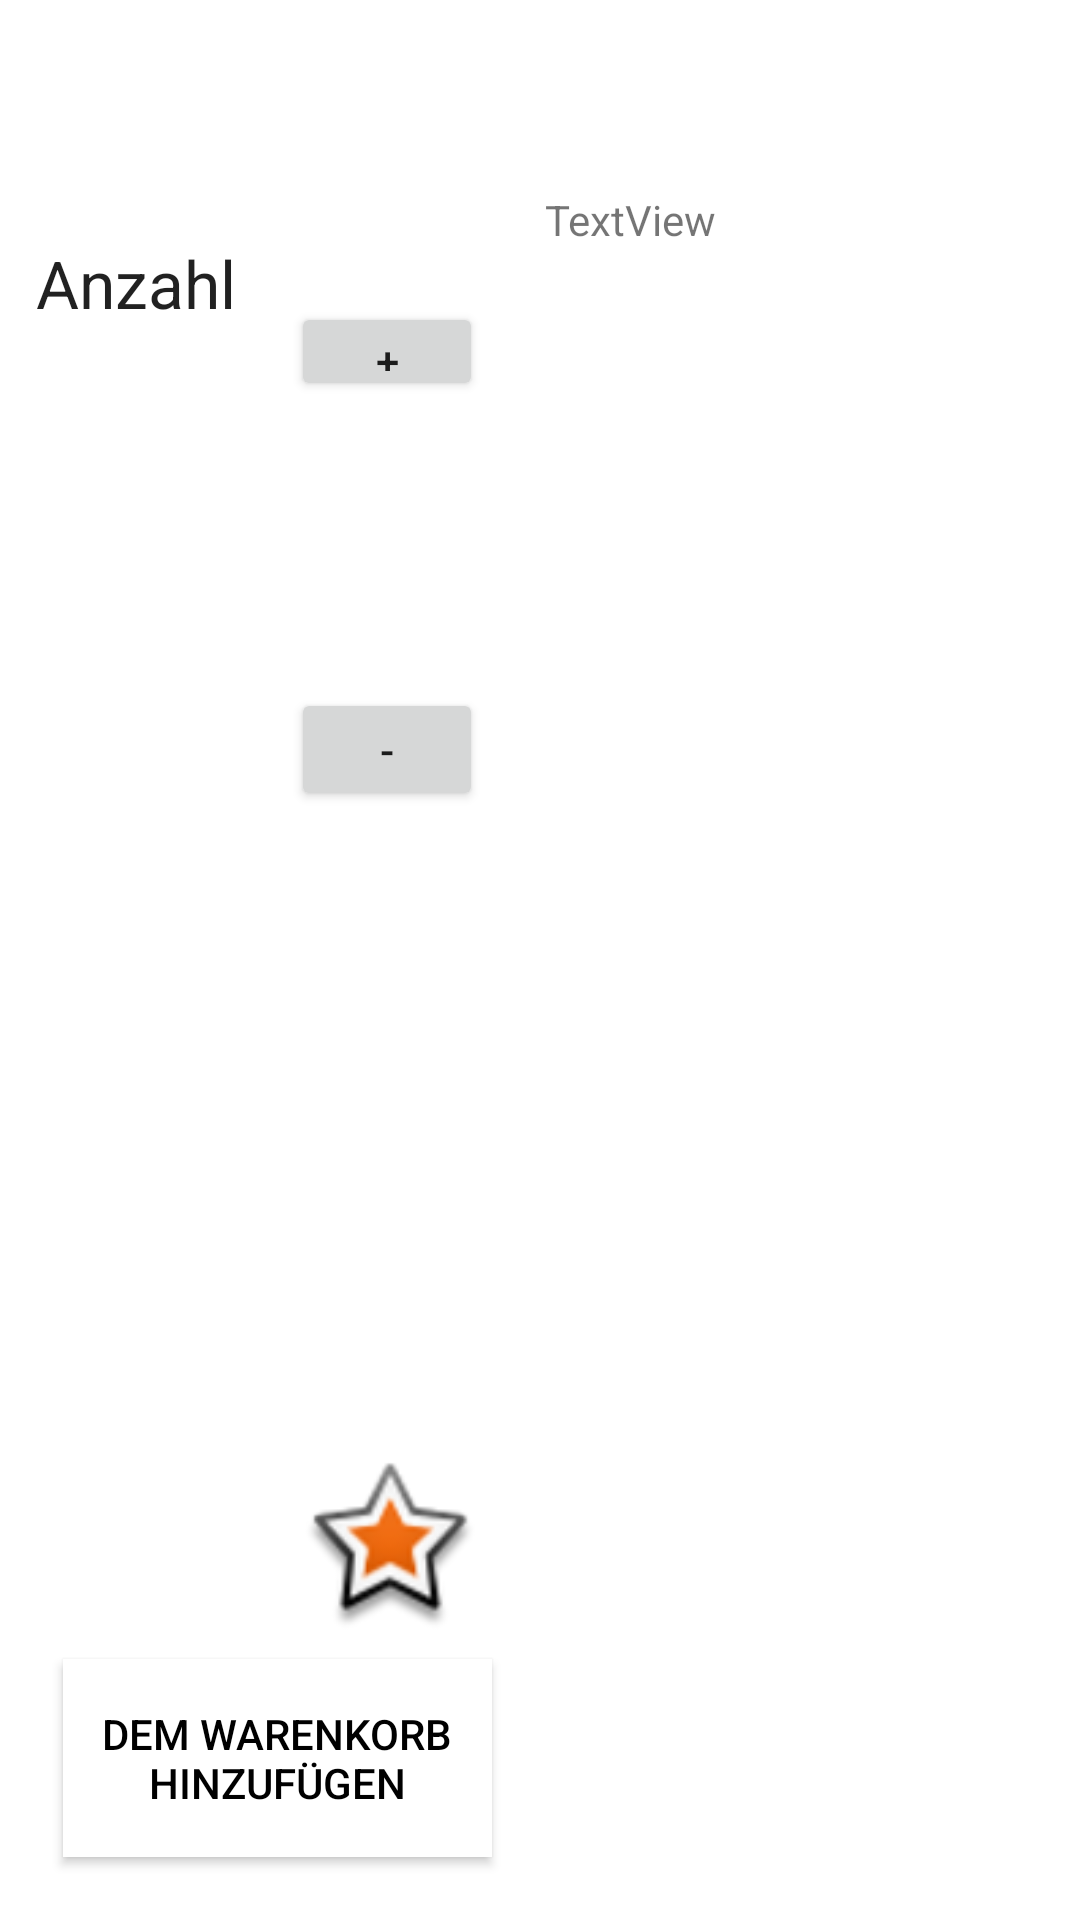

Screen size 1080w x 1920h. Icon name, then its center in pixels as point (x, y):
star on: point (390, 1542)
